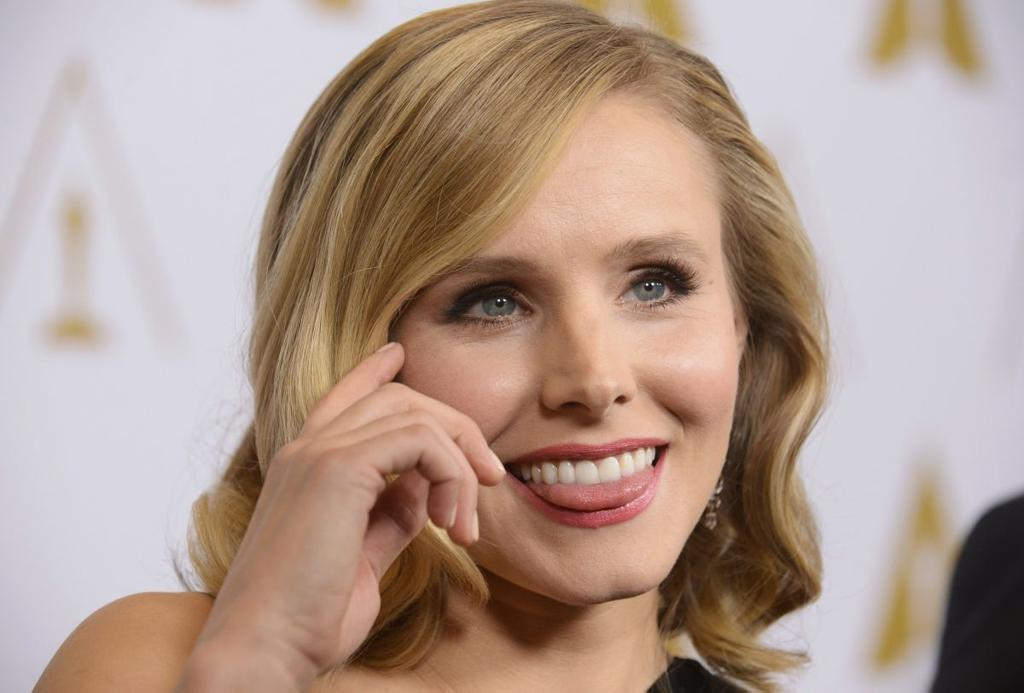face: (386, 80, 740, 608)
